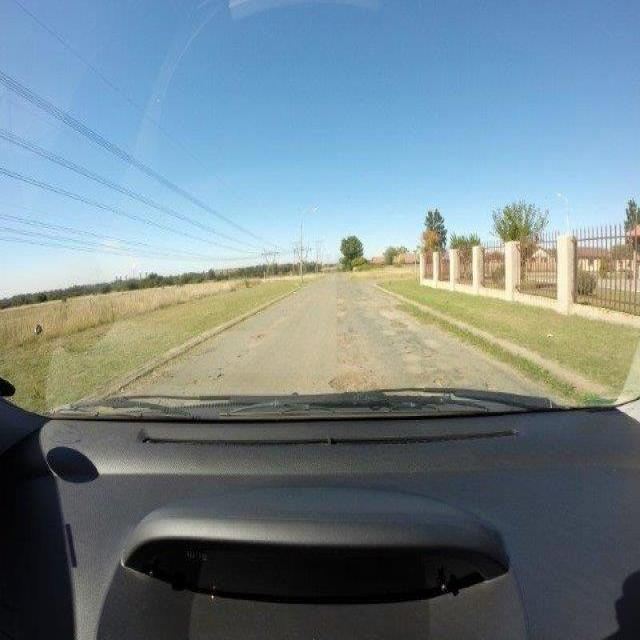lubang: (374, 299, 436, 334), (326, 367, 384, 390), (399, 337, 445, 362), (334, 326, 363, 358), (430, 368, 455, 389), (210, 364, 230, 382), (253, 330, 268, 342)
